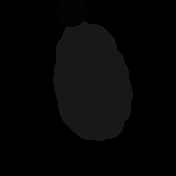fp: (48, 19, 141, 149)
